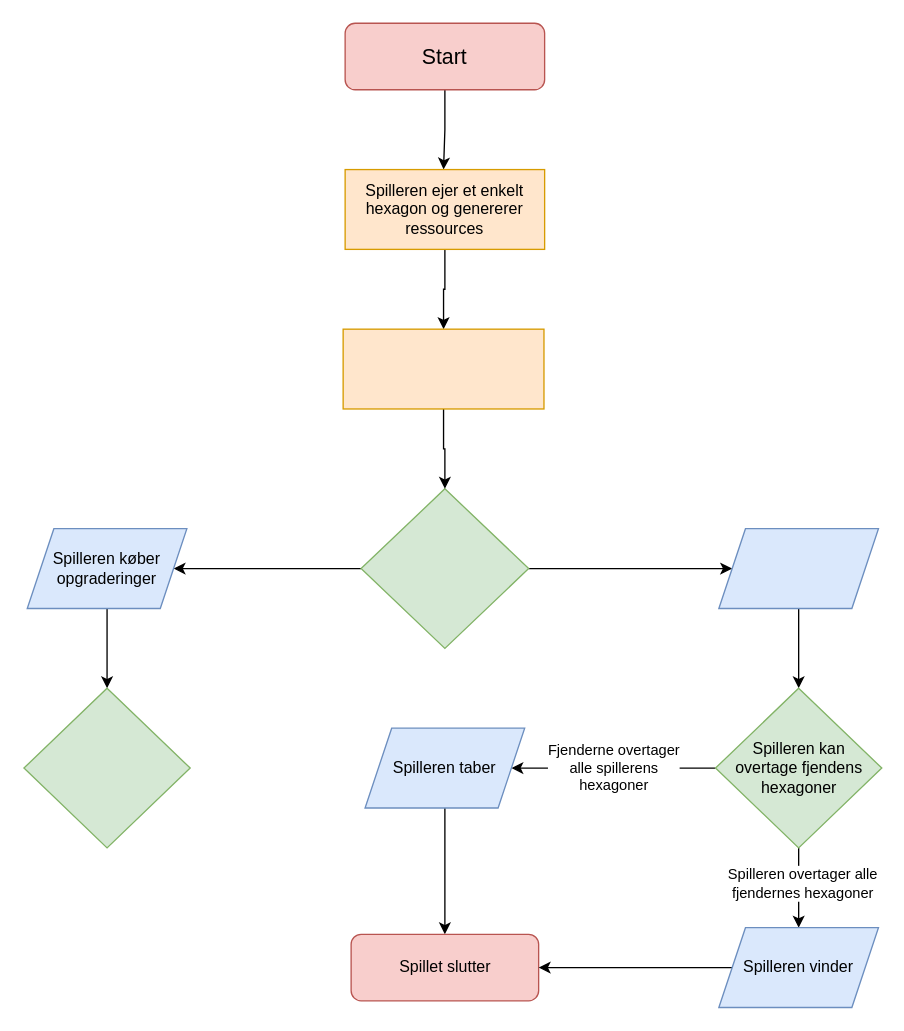
This 904x1031 diagram has some shape labels left out. Each missing label, with the centre of its shape:
"4 fjender spawner tilfældigt på banen" belongs at (443,368).
"Spilleren kan købe flere hexagoner eller opgradere" belongs at (444,567).
"Spilleren kan nemmere overtage fjenden" belongs at (106,767).
"Spilleren udvider mod fjenderne" belongs at (798,567).
